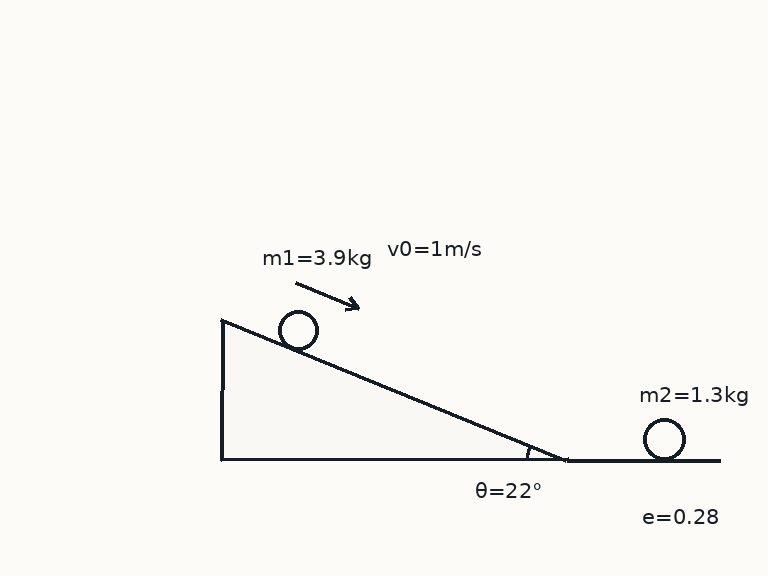ball: (641, 416, 687, 462), (276, 308, 320, 352)
ramp: (219, 318, 569, 462)
